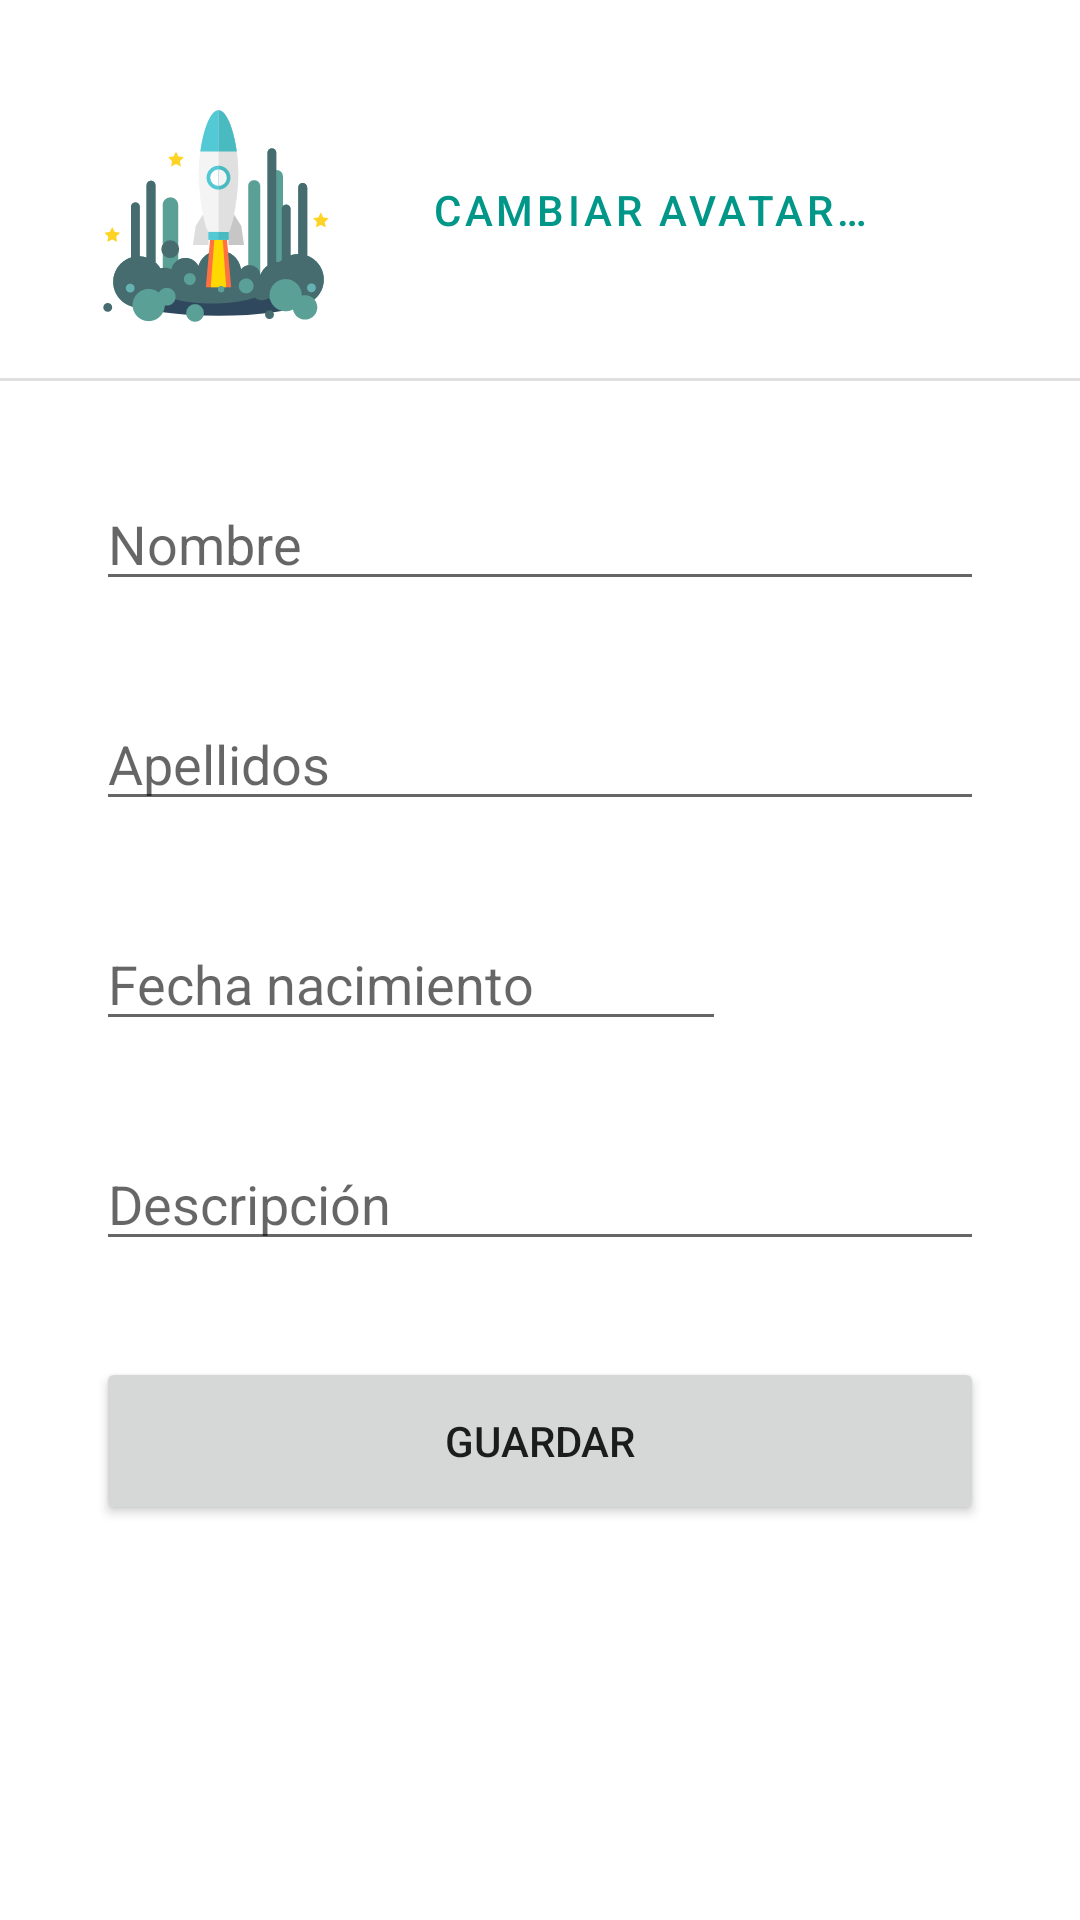

Where to tap for icons on this 1080×1920 app screen, as (x=x, y=y):
starship: (x=216, y=216)
